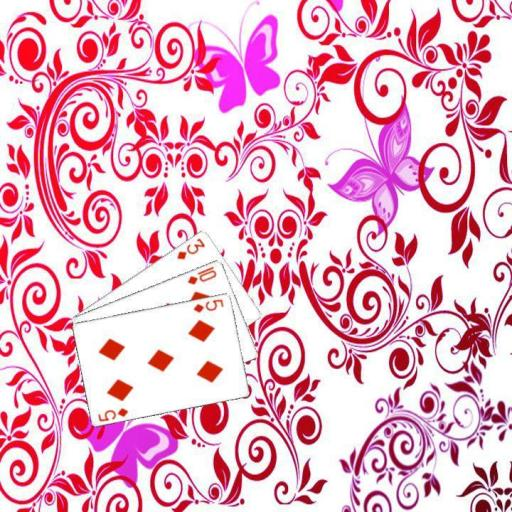card-corner: (173, 235, 207, 261), (184, 263, 218, 286), (95, 405, 130, 423), (190, 296, 224, 314)
